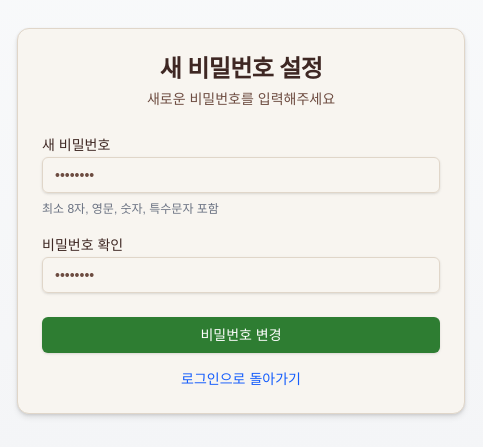
Test: UpdatePasswordPage › 폼 제출 › 제출 중 로딩 상태를 표시한다
Type "TestTest123!" into the password field labelled "새 비밀번호" at (241, 175), box [42, 157, 440, 193]
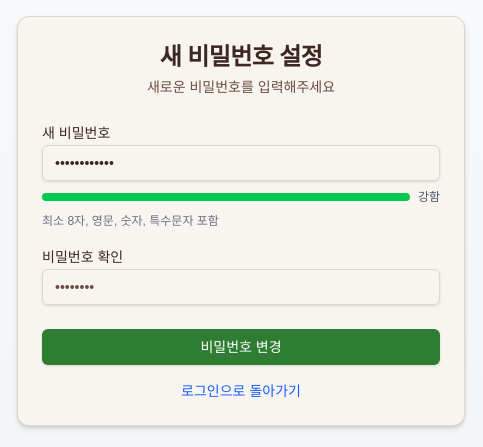
Type "TestTest123!" into the password field labelled "비밀번호 확인" at (241, 287), box [42, 269, 440, 305]
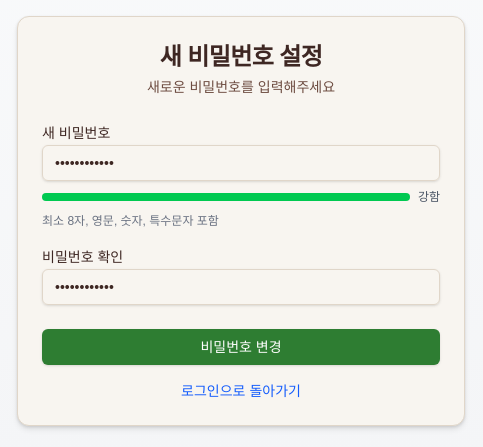
Click the button "비밀번호 변경" at (241, 347), box [42, 329, 440, 365]
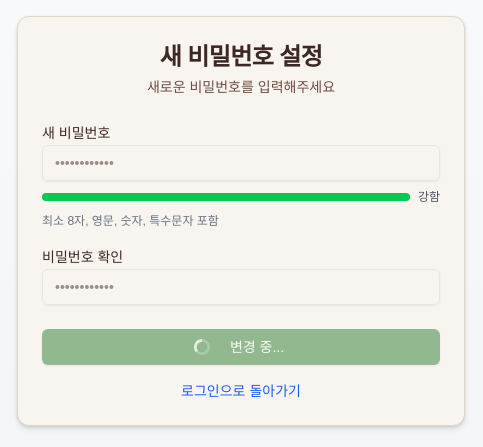
Check: the button "변경 중..." is disabled, box [42, 329, 440, 365]
